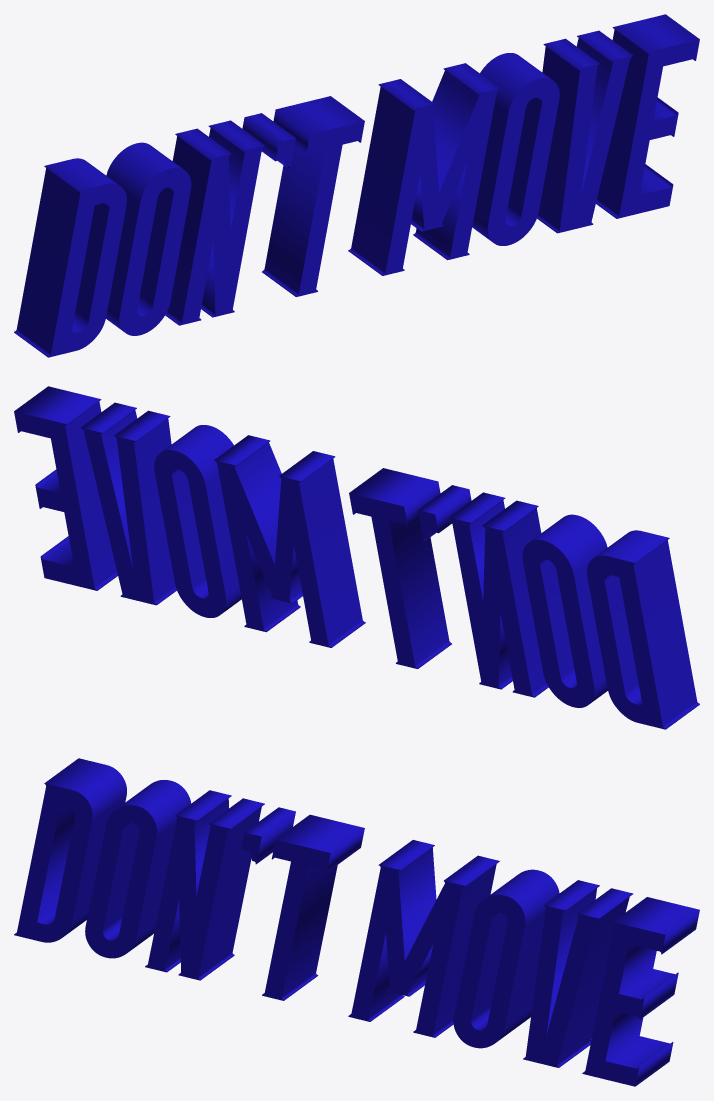
The model's file is DMS2.glb.
The picture shows the model from 3 angles, top to bottom: view 1: azimuth 30°, elevation 25°; view 2: azimuth 150°, elevation 25°; view 3: azimuth 330°, elevation 25°; orthographic projection.
Visible parts, largest first — view 1: Text; view 2: Text; view 3: Text.
Part boxes in pixels (bbox=[...]): Text: bbox=[14, 14, 699, 357]; Text: bbox=[14, 386, 699, 729]; Text: bbox=[14, 758, 699, 1086].
Bounding box in the file's own units: 3.52 × 0.8213 × 0.32.
